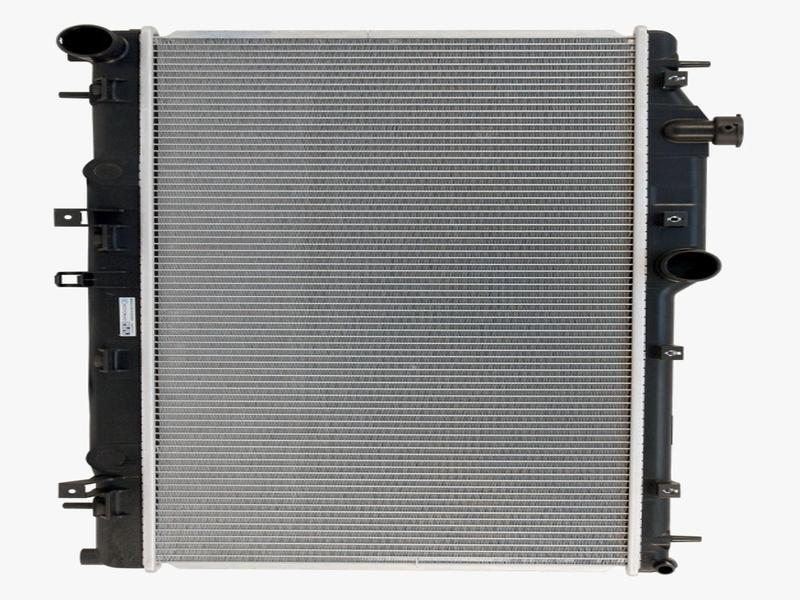c1: (662, 57, 717, 89)
c10: (92, 161, 127, 185)
c11: (53, 205, 133, 252)
c12: (54, 270, 130, 288)
c13: (93, 346, 133, 376)
c14: (57, 481, 136, 519)
c2: (663, 109, 745, 149)
c3: (662, 209, 690, 229)
c4: (661, 248, 723, 285)
c5: (660, 344, 686, 361)
c6: (657, 481, 683, 500)
c7: (651, 534, 703, 576)
c8: (53, 25, 132, 63)
c9: (58, 76, 134, 106)
